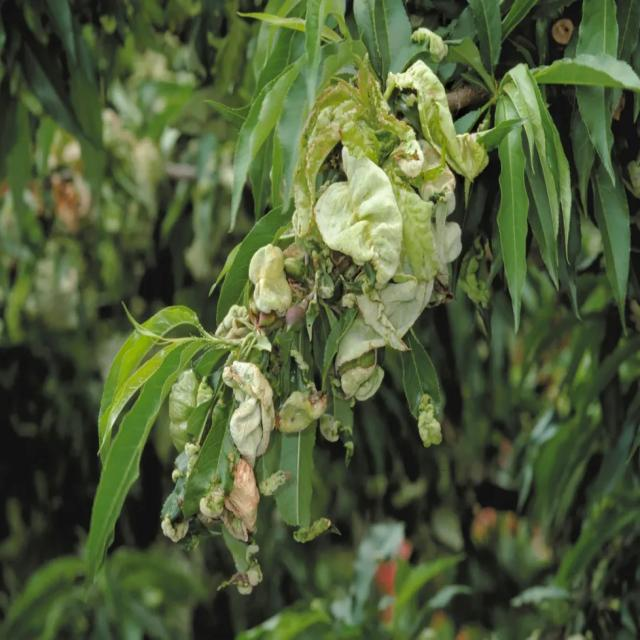peach_leaf_curl: (216, 230, 316, 564), (409, 14, 484, 198), (312, 145, 405, 288)
